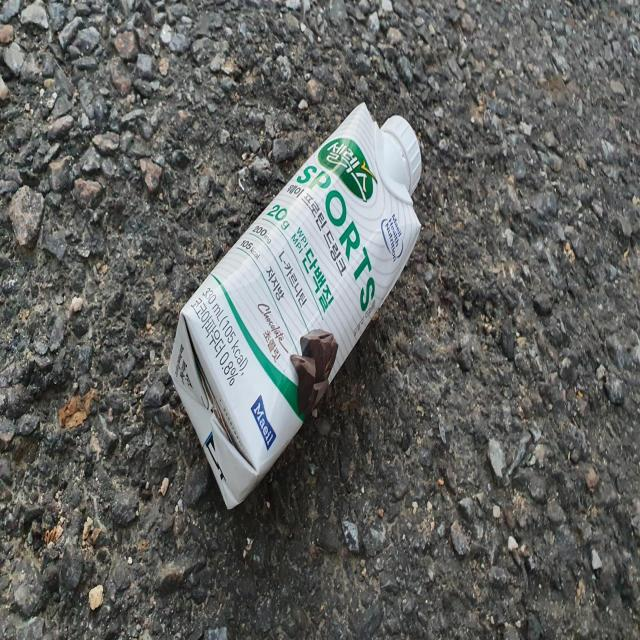paperpack: (168, 101, 422, 508)
